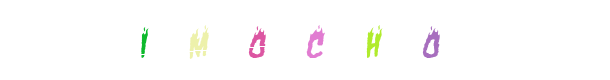0: (318, 0, 398, 80)
C: (283, 0, 363, 80)
H: (306, 0, 386, 80)
I: (104, 0, 184, 80)
M: (184, 0, 264, 80)
O: (265, 0, 345, 80)
